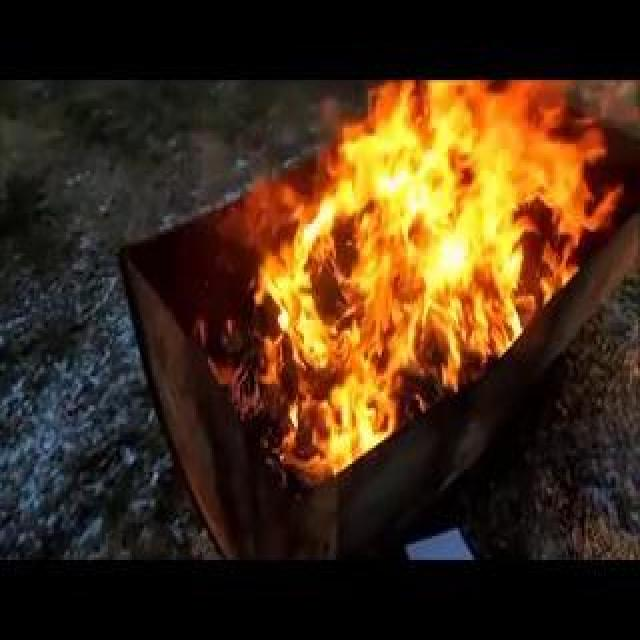Fire: (405, 286, 422, 402)
